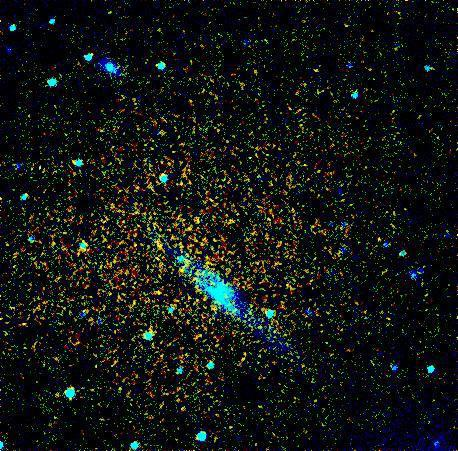star: (144, 230, 174, 260)
